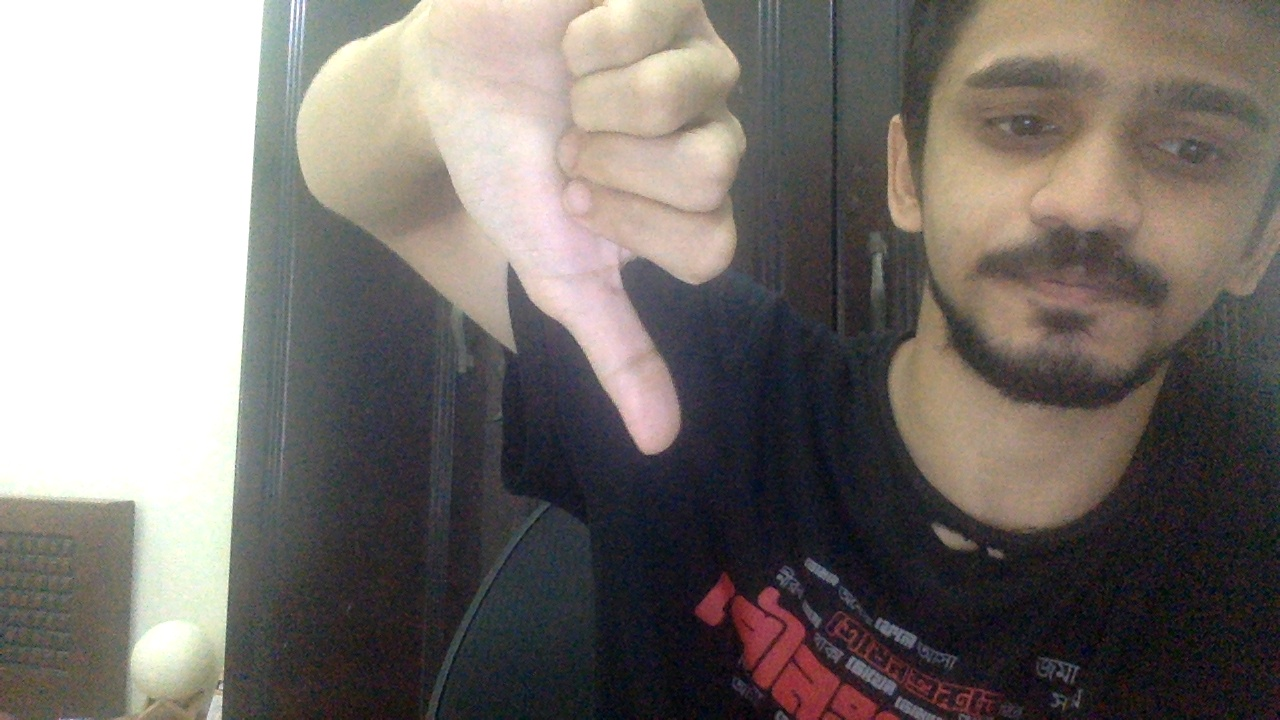bad: (399, 2, 742, 458)
